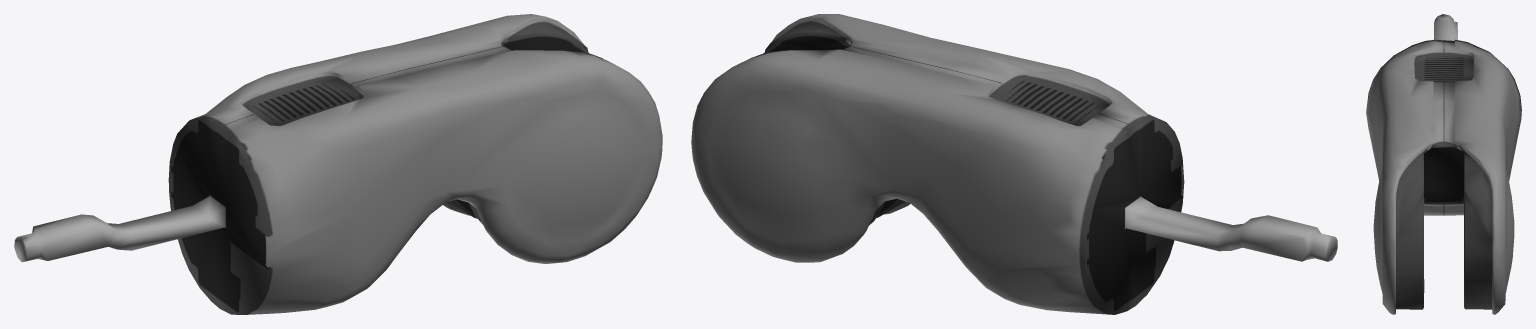
Rendered from upper_arm.obj.
The picture shows the model from 3 angles, left to right: view 1: azimuth 30°, elevation 25°; view 2: azimuth 150°, elevation 25°; view 3: azimuth 270°, elevation 25°; orthographic projection. The views are drawn at different scales.
Parts seen in each view (by area): view 1: SM_upper_arm2_M1K_mod; view 2: SM_upper_arm2_M1K_mod; view 3: SM_upper_arm2_M1K_mod.
Boxes of the visible parts, box(x1,y1,x2,y2) form: SM_upper_arm2_M1K_mod: box(14, 14, 662, 314); SM_upper_arm2_M1K_mod: box(691, 14, 1337, 314); SM_upper_arm2_M1K_mod: box(1366, 14, 1521, 314).
Size of the model in its own units: 0.5351 by 0.1694 by 0.1524.
Materials: 1 (1 with a texture image).
